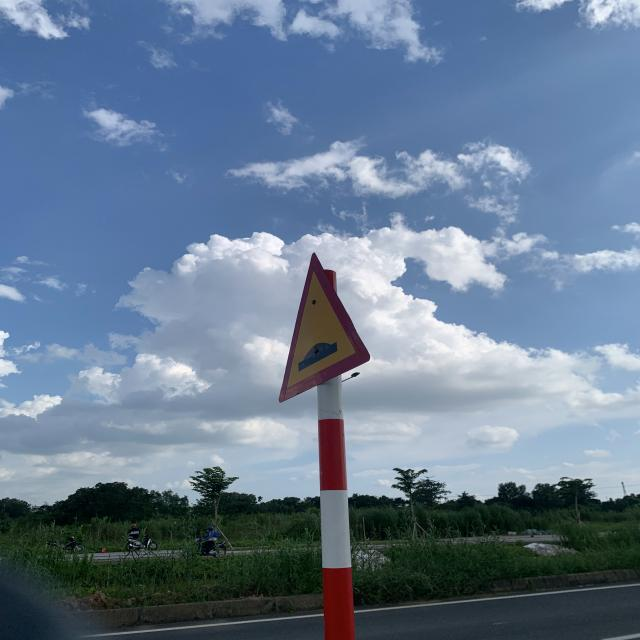Duong_Cong_Ben_Phai: (276, 250, 374, 406)
